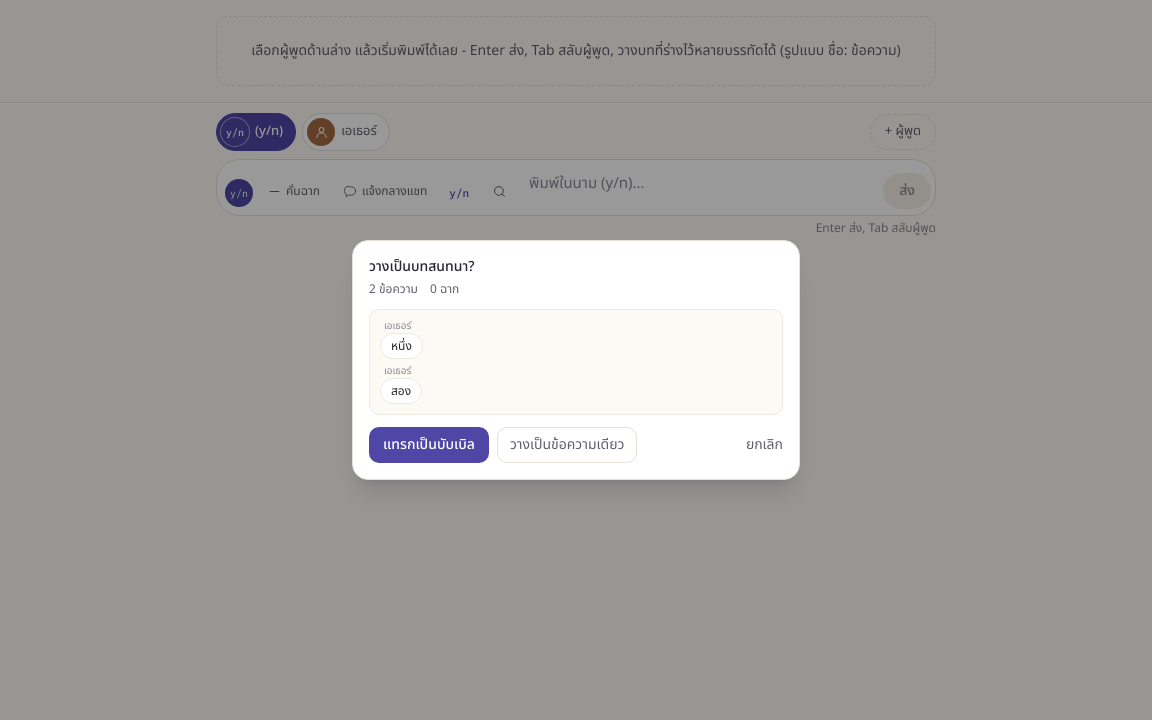
Test case: ChatComposer › keeps a cancelled paste out of the conversation
Click the button "ยกเลิก".
click(764, 445)  # box [746,435,783,455]
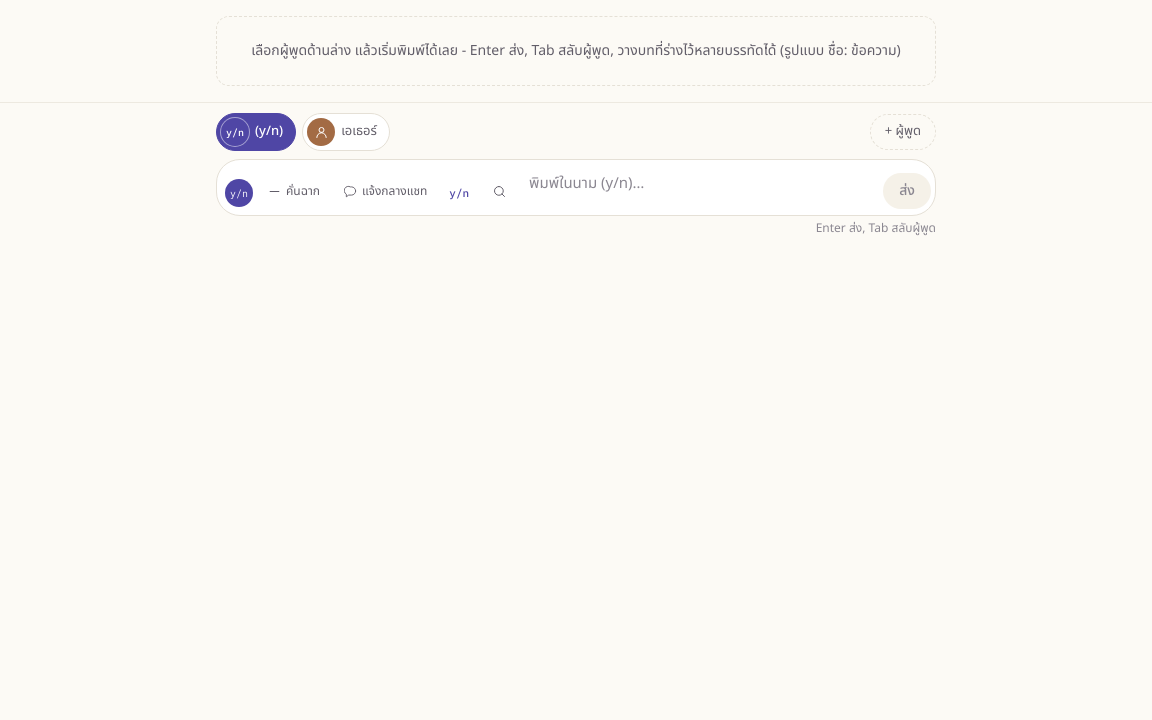
Check: the dialog is gone
